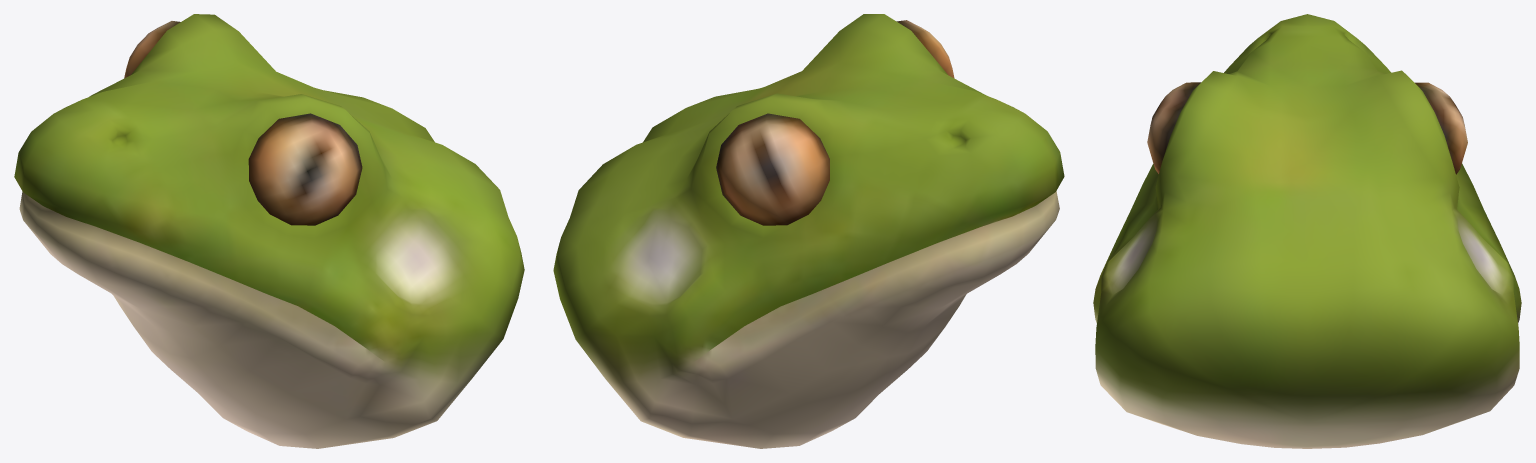
Rendered from Frog_Head_0.FBX.
3 views of the same model, side by side, from view 1: azimuth 30°, elevation 25°; view 2: azimuth 150°, elevation 25°; view 3: azimuth 270°, elevation 25° (orthographic). The views are drawn at different scales.
Parts seen in each view (by area): view 1: Frog_Head_0; view 2: Frog_Head_0; view 3: Frog_Head_0.
Part boxes in pixels (<box>): Frog_Head_0: <box>14,14,524,448</box>; Frog_Head_0: <box>553,14,1064,448</box>; Frog_Head_0: <box>1093,14,1521,448</box>.
Size of the model in its own units: 1.06 by 0.8706 by 0.9706.
